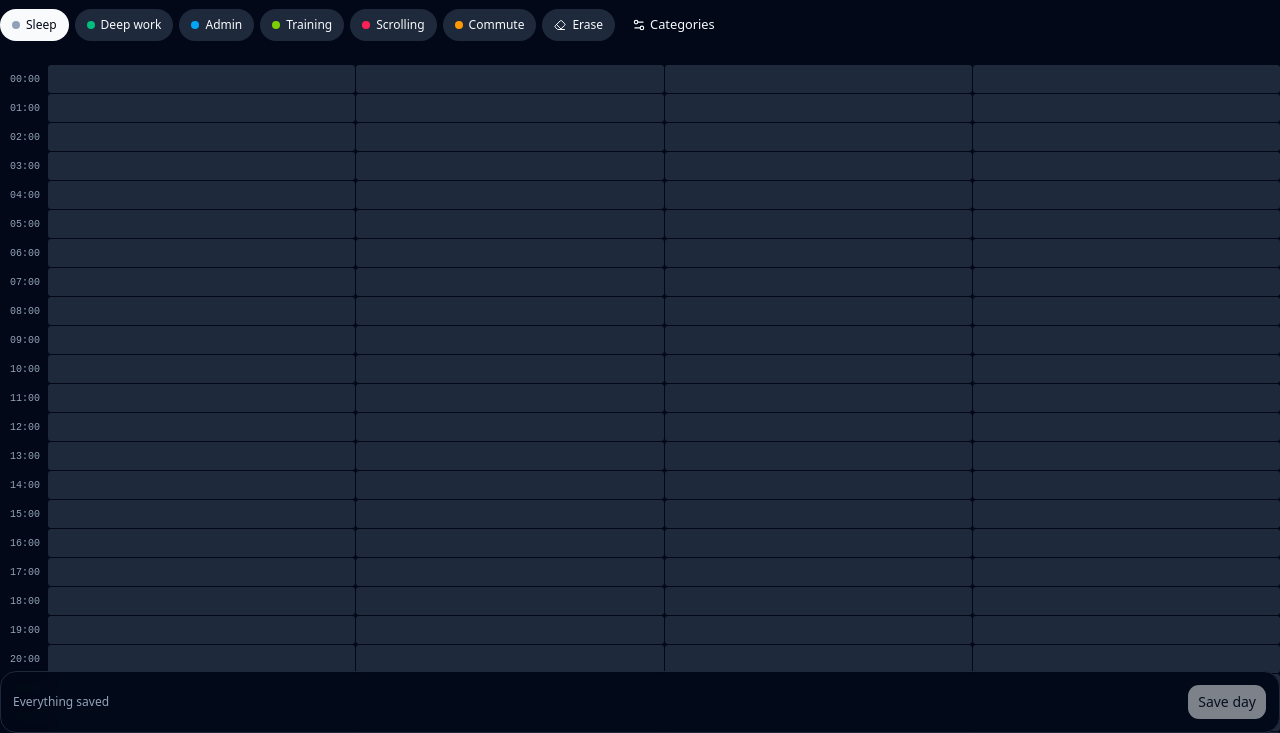
Test: TimeAuditTool › keeps the painted day on screen when the save fails
Click the button with aria-label "brush deep work". click: (124, 25)
box: [75,9,174,41]
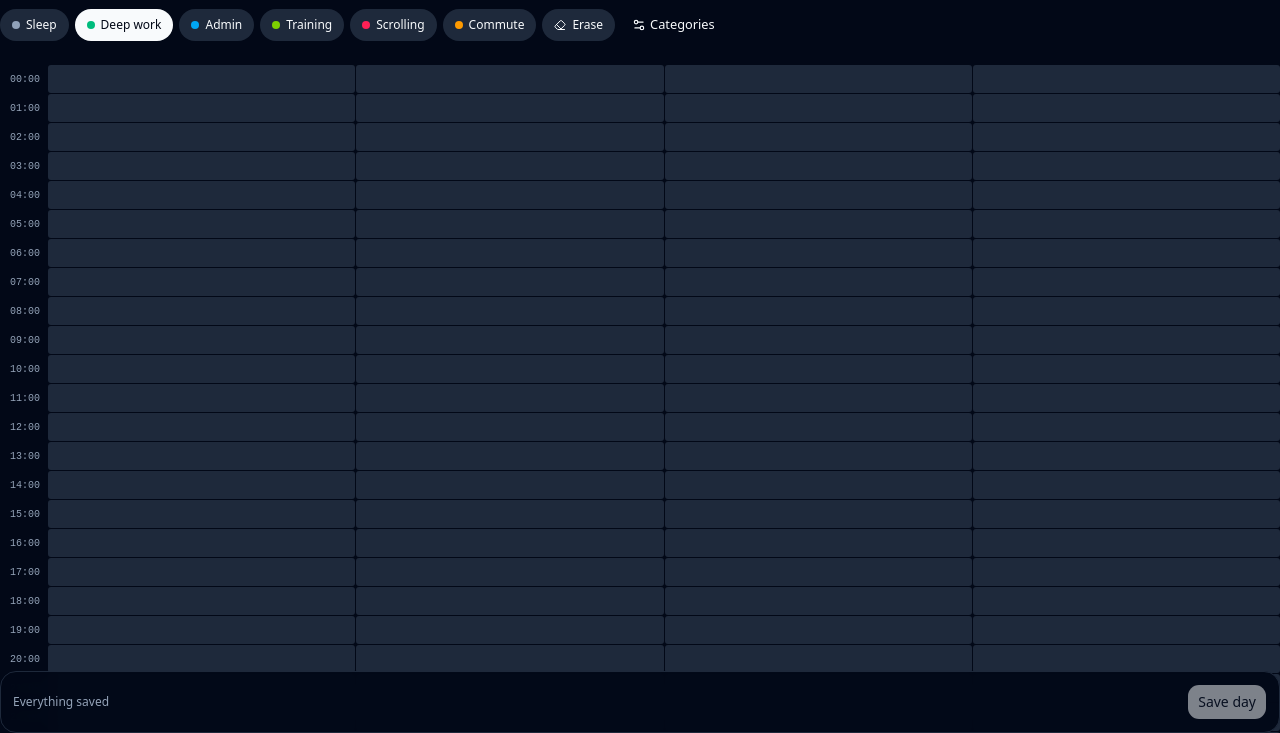
Click the button named "09:00". click: (202, 340)
box: [48,326,355,354]
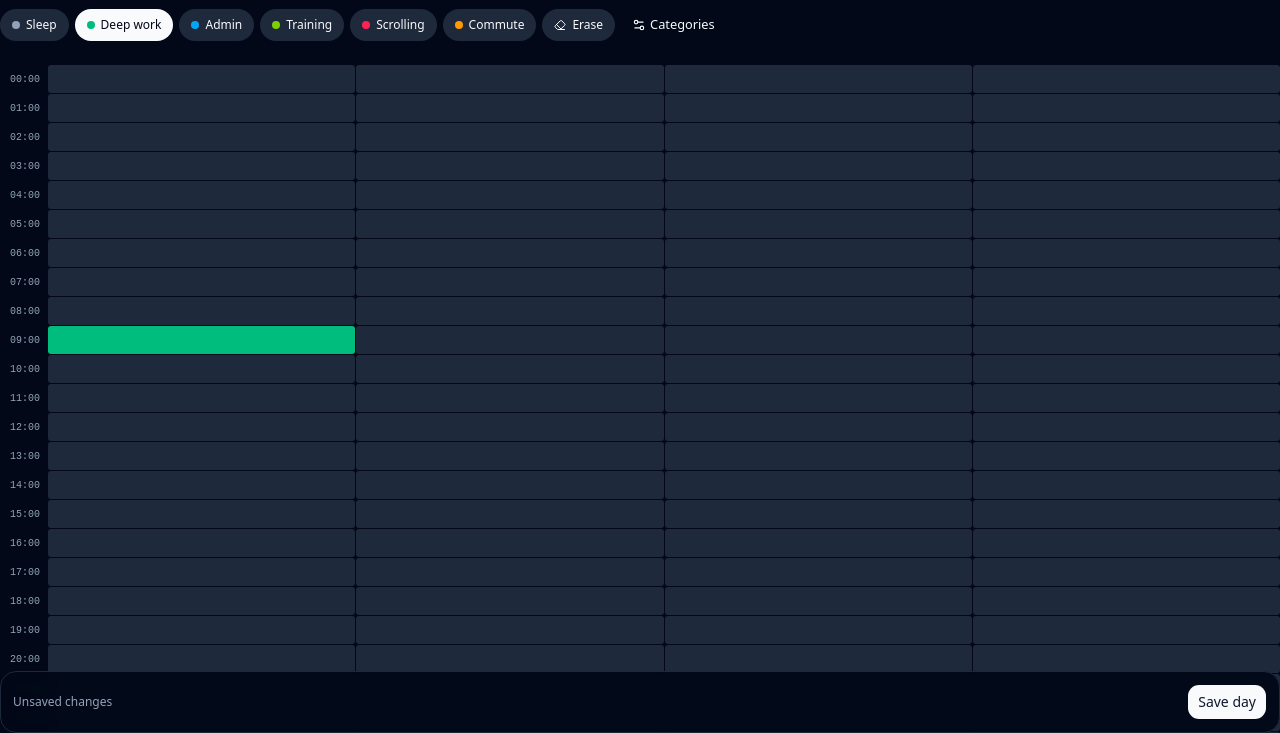
Click the button "Save day". click: (1227, 702)
box: [1187,684,1267,720]
(page scrolled)
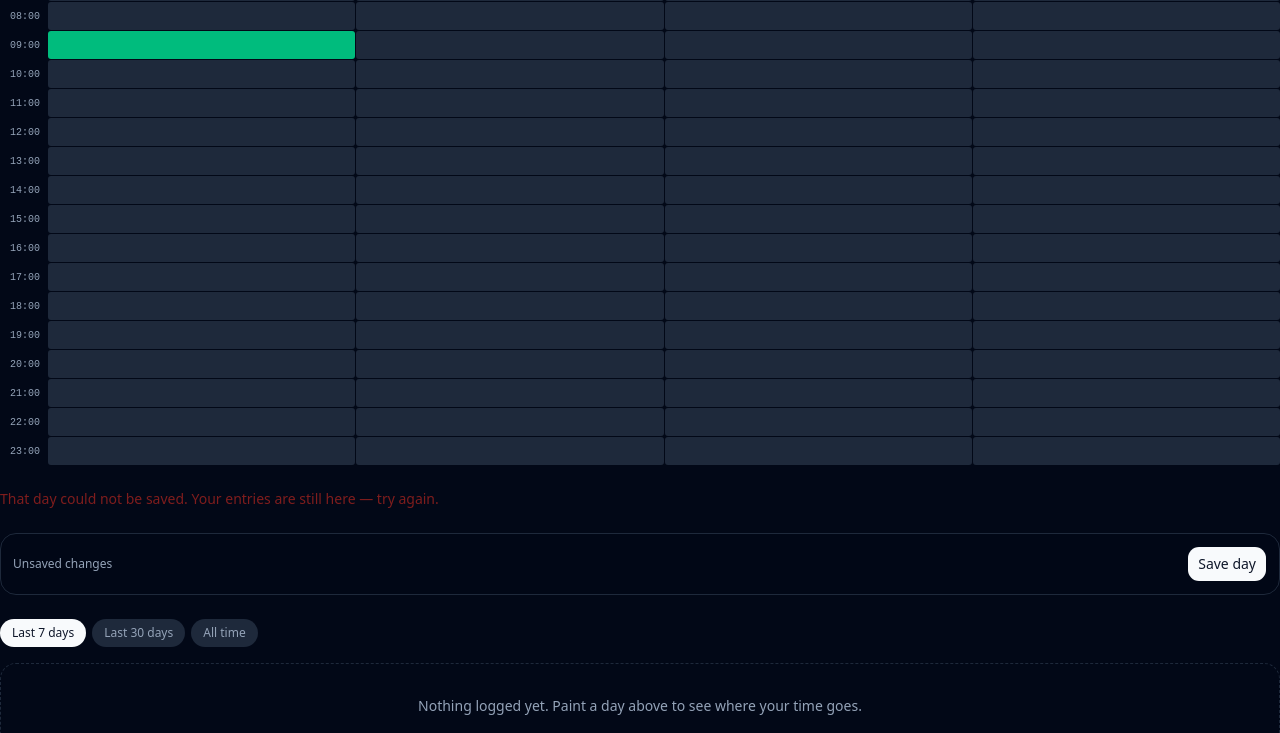
Check: the message "That day could not be saved. Your entries are still here — try again." is shown, box [0,489,439,508]
